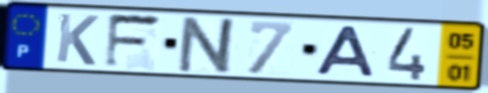4: (386, 25, 428, 82)
7: (247, 20, 297, 76)
A: (312, 24, 378, 79)
F: (102, 12, 166, 71)
K: (53, 11, 101, 68)
N: (174, 15, 242, 76)
